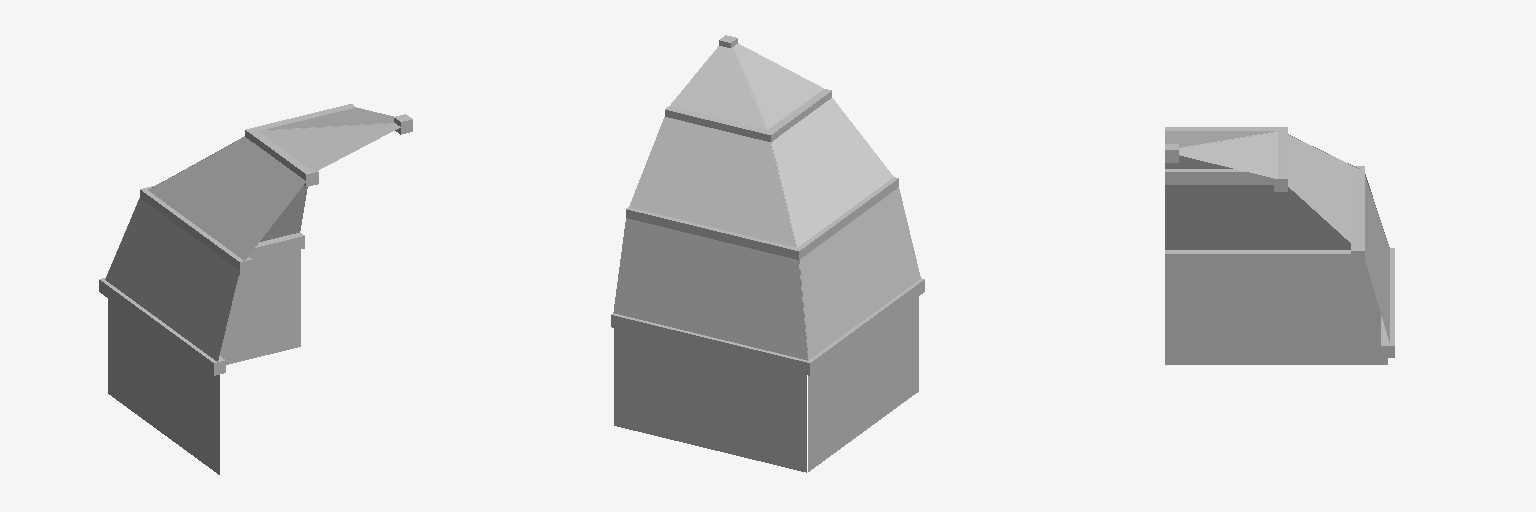
Rendered from mt_awning_basket_outer.obj.
3 renders of one model, left to right at view 1: azimuth 30°, elevation 25°; view 2: azimuth 150°, elevation 25°; view 3: azimuth 270°, elevation 25°, orthographic.
Visible parts, largest first — view 1: cube.000, cube.003, cube, cube.013, cube.001, cube.002, cube.004, cube.008, cube.009, cube.010, cube.005, cube.012; view 2: cube.013, cube.009, cube.007, cube.000, cube.003, cube, cube.008, cube.001, cube.010, cube.011, cube.002, cube.012 (+2 smaller); view 3: cube.003, cube.000, cube.007, cube.002, cube.008, cube.009, cube.004, cube.001, cube.010, cube.011, cube.012.
Boxes of the visible parts, x1,y1,x2,y2 form: cube.000: [105, 198, 239, 361]; cube.003: [108, 299, 219, 474]; cube: [148, 136, 305, 260]; cube.013: [219, 250, 300, 364]; cube.001: [258, 122, 400, 172]; cube.002: [106, 283, 225, 375]; cube.004: [147, 193, 251, 274]; cube.008: [266, 107, 393, 130]; cube.009: [106, 185, 307, 276]; cube.010: [99, 233, 304, 296]; cube.005: [252, 133, 318, 186]; cube.012: [245, 104, 355, 141]; cube.013: [614, 328, 806, 472]; cube.009: [613, 218, 807, 360]; cube.007: [629, 117, 796, 247]; cube.000: [799, 187, 920, 360]; cube.003: [808, 297, 918, 471]; cube: [771, 98, 893, 247]; cube.008: [670, 46, 767, 128]; cube.001: [732, 43, 823, 129]; cube.010: [611, 313, 816, 375]; cube.011: [626, 207, 805, 259]; cube.002: [814, 278, 924, 369]; cube.012: [665, 106, 777, 141]; cube.003: [1165, 267, 1387, 364]; cube.000: [1165, 174, 1389, 249]; cube.007: [1288, 135, 1358, 249]; cube.002: [1165, 250, 1366, 266]; cube.008: [1179, 131, 1277, 178]; cube.009: [1365, 177, 1389, 342]; cube.004: [1165, 169, 1273, 184]; cube.001: [1165, 131, 1278, 148]; cube.010: [1381, 248, 1394, 357]; cube.011: [1351, 166, 1364, 263]; cube.012: [1274, 127, 1287, 191].
Bounding box in the file's own units: 1.03 × 1.53 × 1.03.